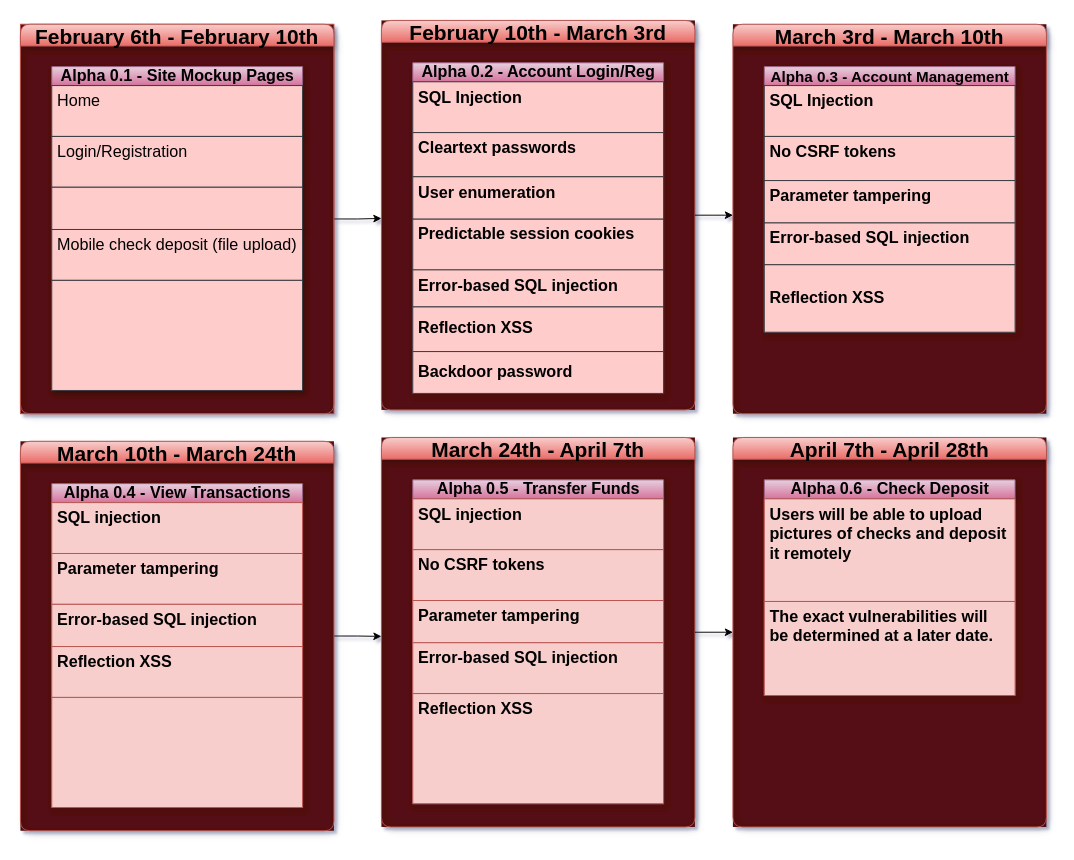
Some shapes in this 1074 by 860 pixel diagram are drawn without their labels. Here are the shapes that lost their labels. From the top down, the centre of each, then its label:
(177,209): Edit/close account
(177,336): Funds transfer
(177,752): Time-based attack (will determine exactly what that entails)
